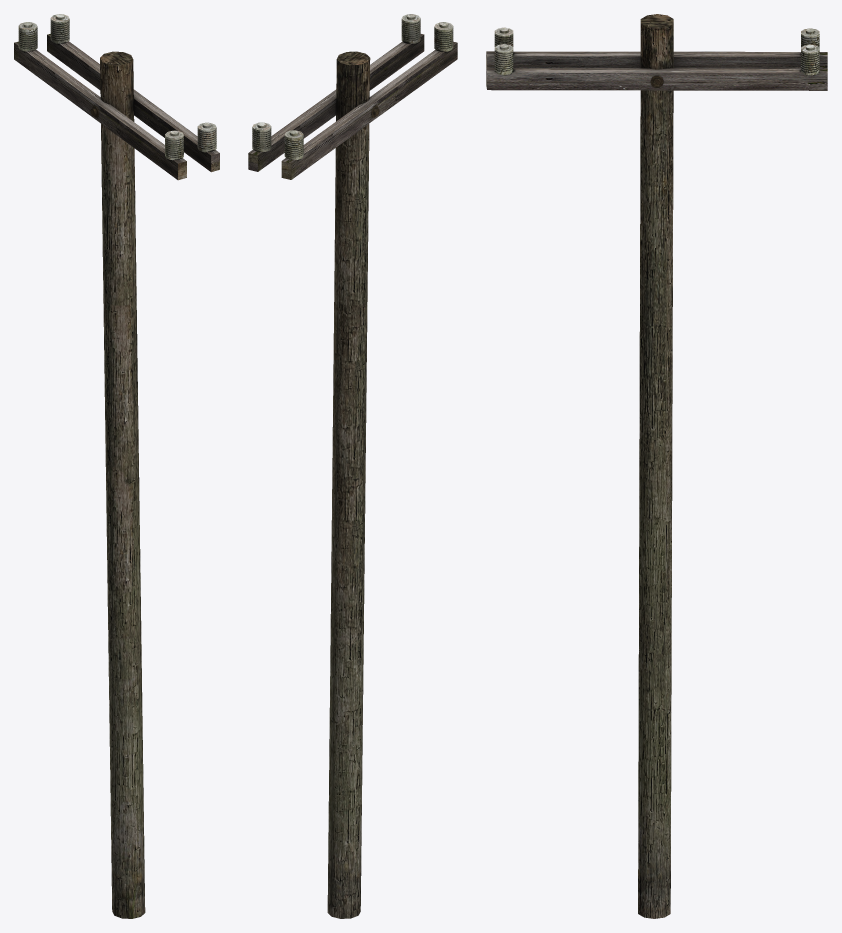
File: telegraf2.fbx
3 renders of one model, left to right at view 1: azimuth 30°, elevation 25°; view 2: azimuth 150°, elevation 25°; view 3: azimuth 270°, elevation 25°, orthographic. The views are drawn at different scales.
Visible parts, largest first — view 1: Mesh Object; view 2: Mesh Object; view 3: Mesh Object.
Boxes of the visible parts, x1,y1,x2,y2 form: Mesh Object: (14,14,219,918); Mesh Object: (248,14,457,918); Mesh Object: (486,14,827,918).
Bounding box in the file's own units: 0.7959 × 12.99 × 4.54.
